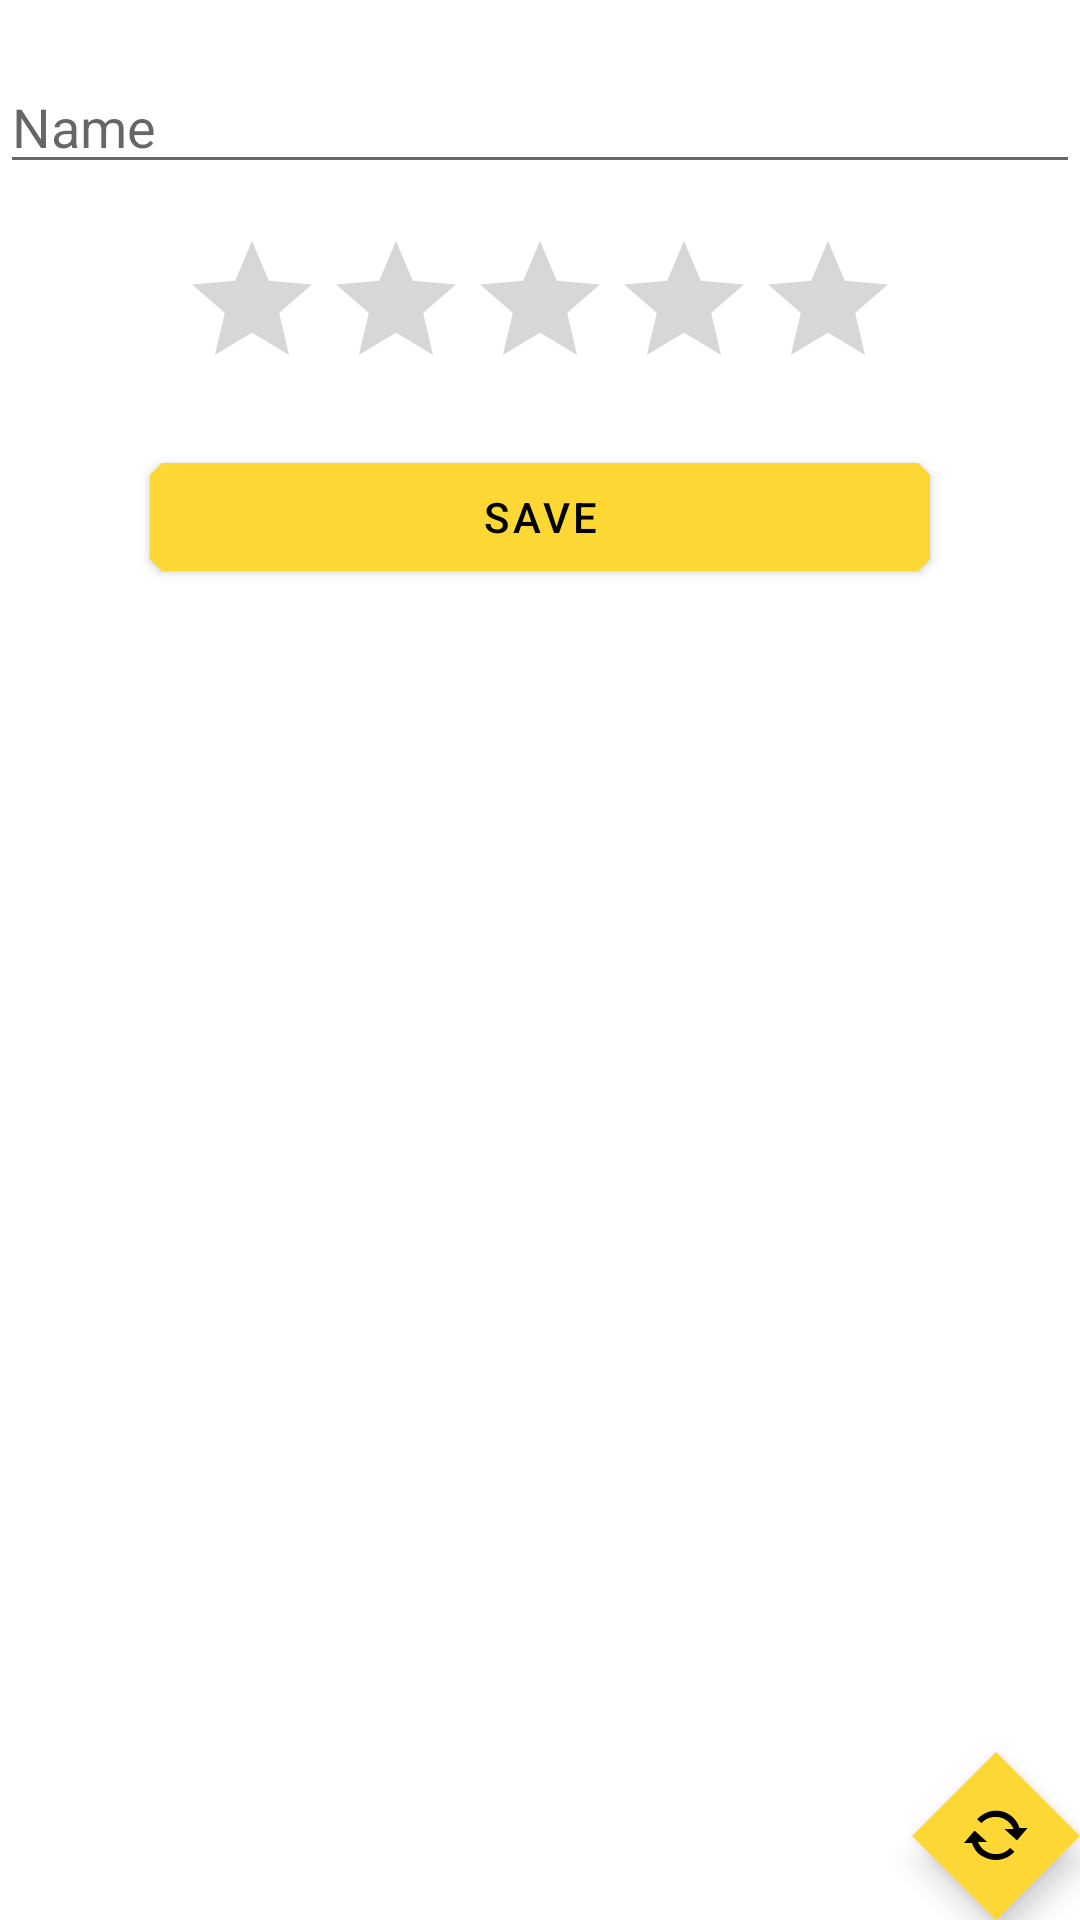

Locate icon controls on the screen. Image size 1080px x 1920px, boxes as (x1, y1, x2, y2).
sync noanim: (912, 1752, 1080, 1920)
